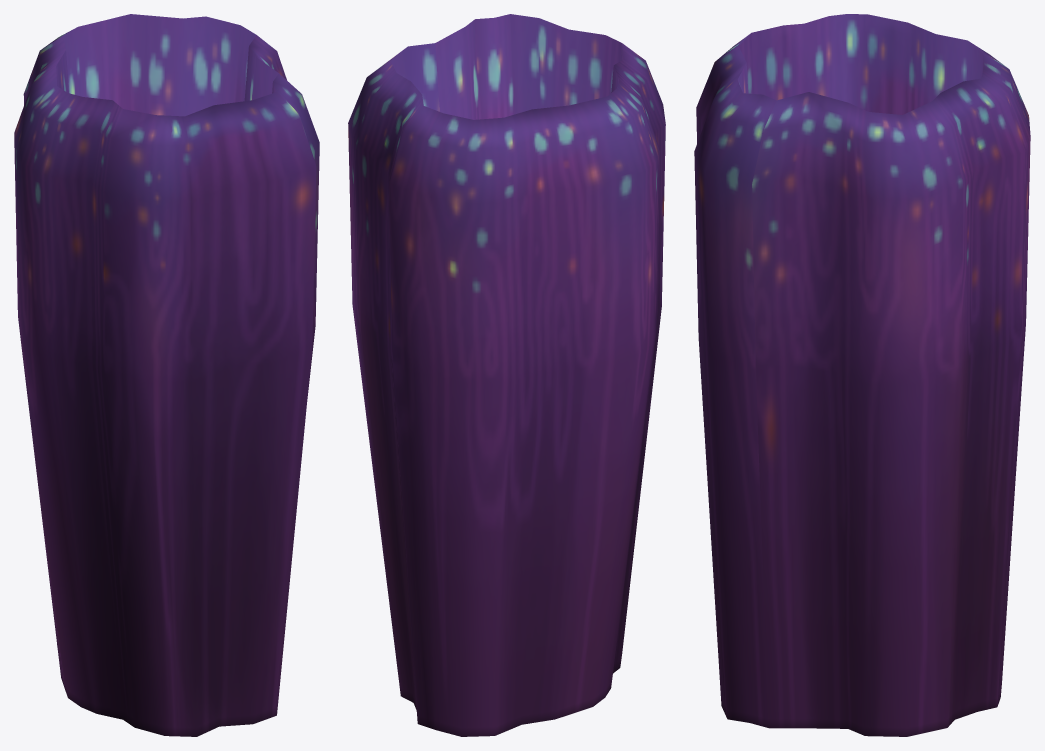
File: DimRock_Purple_06.FBX
The picture shows the model from 3 angles, left to right: view 1: azimuth 30°, elevation 25°; view 2: azimuth 150°, elevation 25°; view 3: azimuth 270°, elevation 25°; orthographic projection. The views are drawn at different scales.
Parts seen in each view (by area): view 1: DimRock_Purple_06; view 2: DimRock_Purple_06; view 3: DimRock_Purple_06.
Part boxes in pixels (left/top/right/bottom): DimRock_Purple_06: left=14, top=14, right=319, bottom=736; DimRock_Purple_06: left=348, top=14, right=665, bottom=736; DimRock_Purple_06: left=694, top=14, right=1030, bottom=736.
Size of the model in its own units: 31.15 by 67.73 by 32.38.
